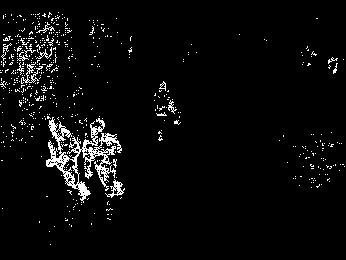person: (83, 118, 132, 220), (38, 117, 80, 220)
